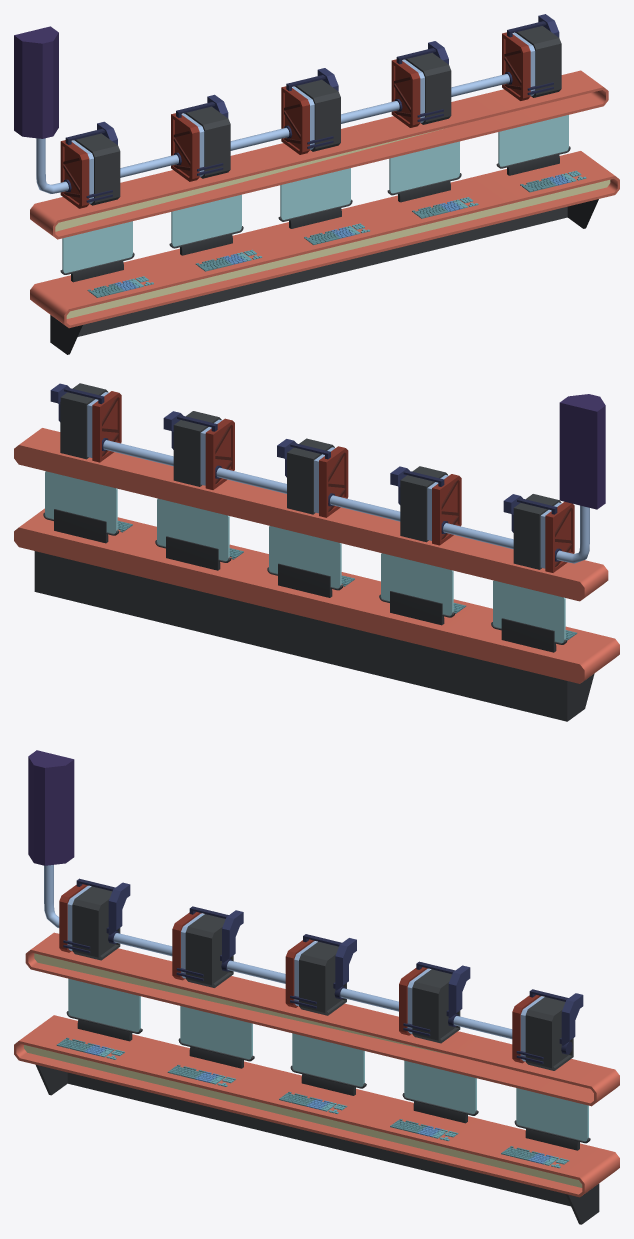
Rendered from SM_GameArea_RecreationalMachines_11.fbx.
The picture shows the model from 3 angles, top to bottom: view 1: azimuth 30°, elevation 25°; view 2: azimuth 150°, elevation 25°; view 3: azimuth 330°, elevation 25°; orthographic projection. The views are drawn at different scales.
Visible parts, largest first — view 1: SM_GameArea_RecreationalMachines_11; view 2: SM_GameArea_RecreationalMachines_11; view 3: SM_GameArea_RecreationalMachines_11.
Part boxes in pixels (x1,y1,x2,y2): SM_GameArea_RecreationalMachines_11: (14, 14, 619, 354); SM_GameArea_RecreationalMachines_11: (14, 383, 619, 721); SM_GameArea_RecreationalMachines_11: (14, 750, 619, 1224).
Size of the model in its own units: 31.18 by 16.34 by 3.46.
Materials: 4 (1 with a texture image).
